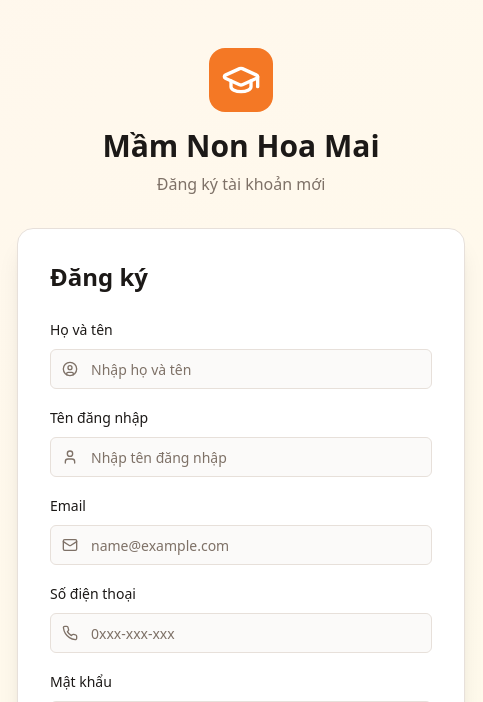
Test: RegisterPage › shows error message on failed registration
Type "New User" into the field labelled "Họ và tên" at point(241, 369), box [50,349,432,389]
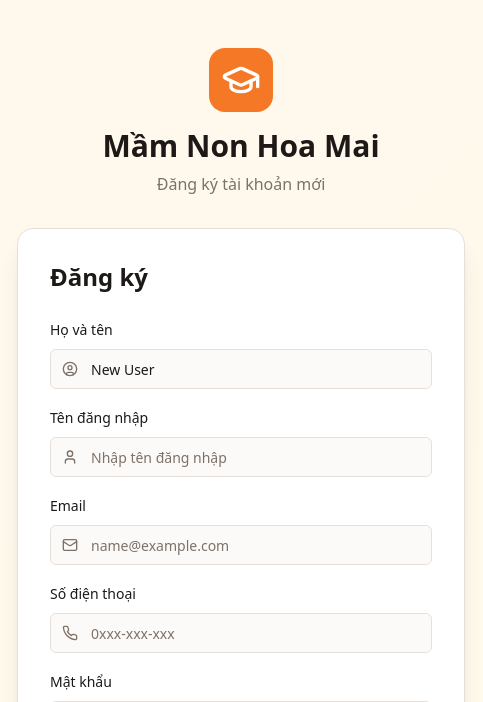
Type "existinguser" into the field labelled "Tên đăng nhập" at point(241, 457), box [50,437,432,477]
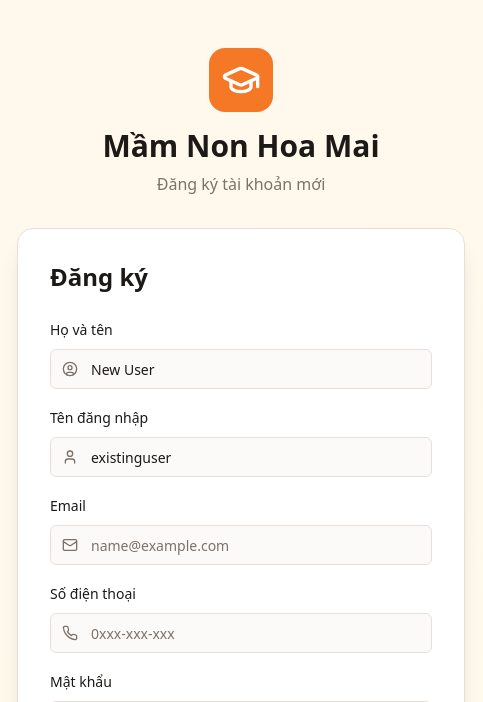
Type "test@ex.com" into the field labelled "Email" at point(241, 545), box [50,525,432,565]
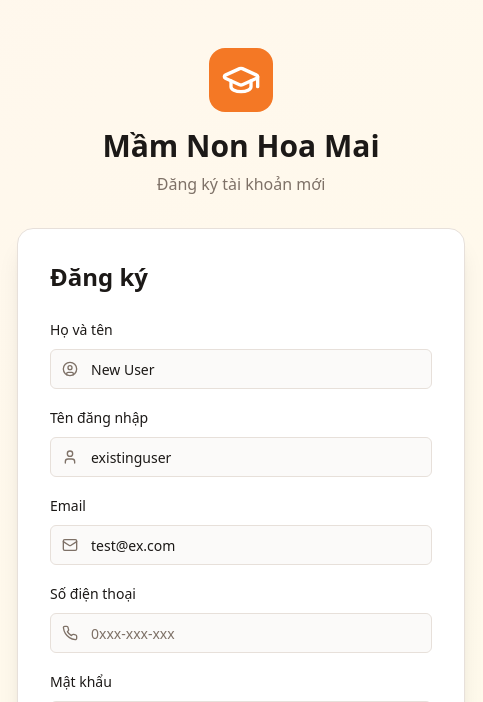
Type "0123456789" into the field labelled "Số điện thoại" at point(241, 633), box [50,613,432,653]
(page scrolled)
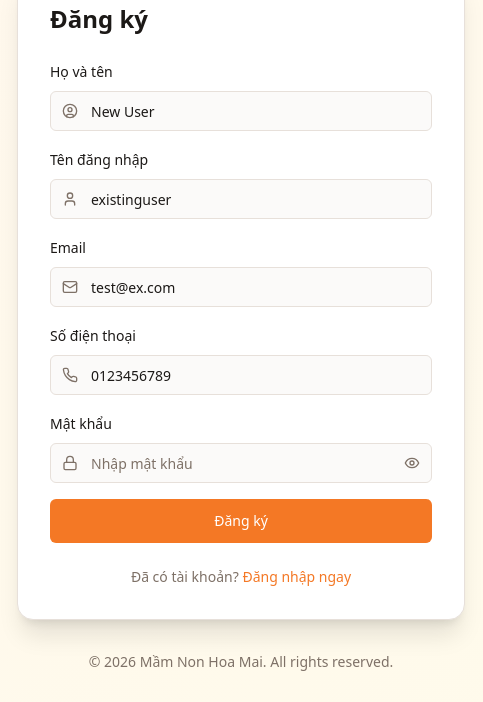
Type "password123" into the password field labelled "Mật khẩu" at point(241, 463), box [50,443,432,483]
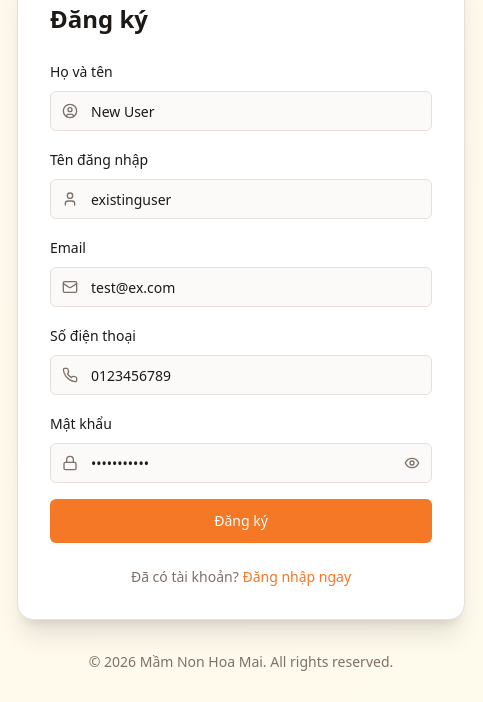
Click the button "Đăng ký" at point(241, 521), box [50,499,432,543]
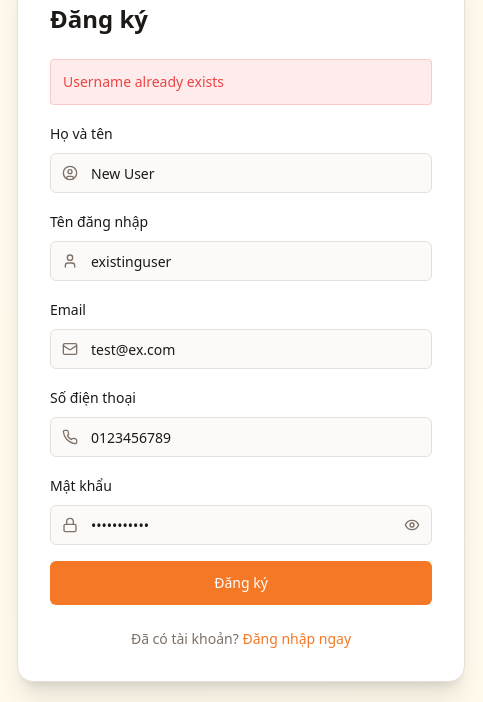
Now the text "Username already exists" is shown, box [50,59,432,105]
